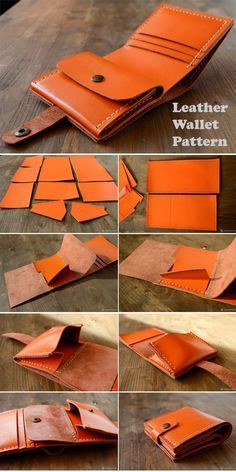cuero: (2, 4, 236, 464)
